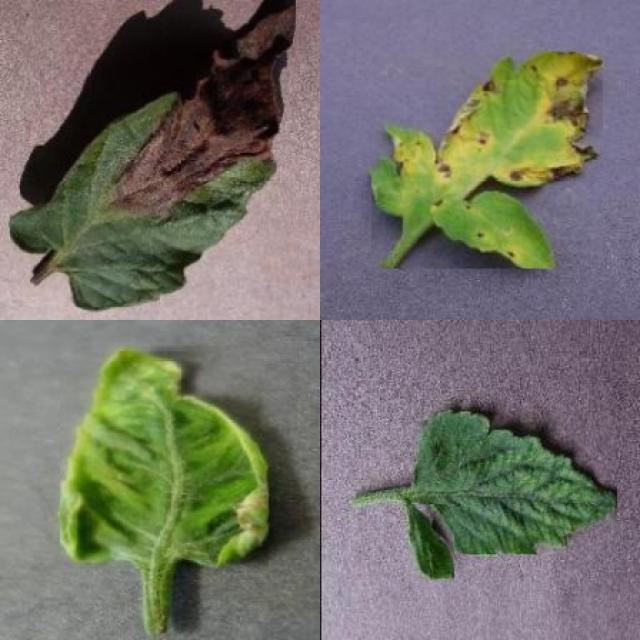Late Blight: (8, 0, 296, 307)
Mosaic Virus: (412, 412, 618, 554), (408, 504, 455, 582)
Septoria: (372, 52, 602, 268)
Yellow Leaf Curl Virus: (61, 346, 269, 568)
